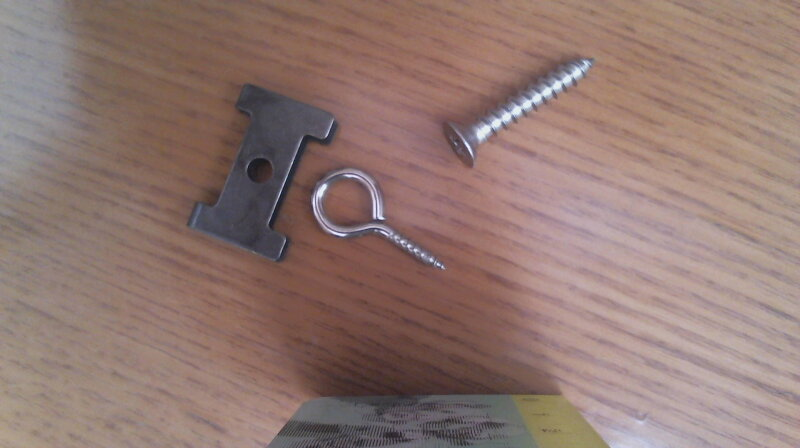O001: (309, 165, 449, 274)
O002: (184, 80, 339, 264)
S001: (440, 53, 601, 171)
